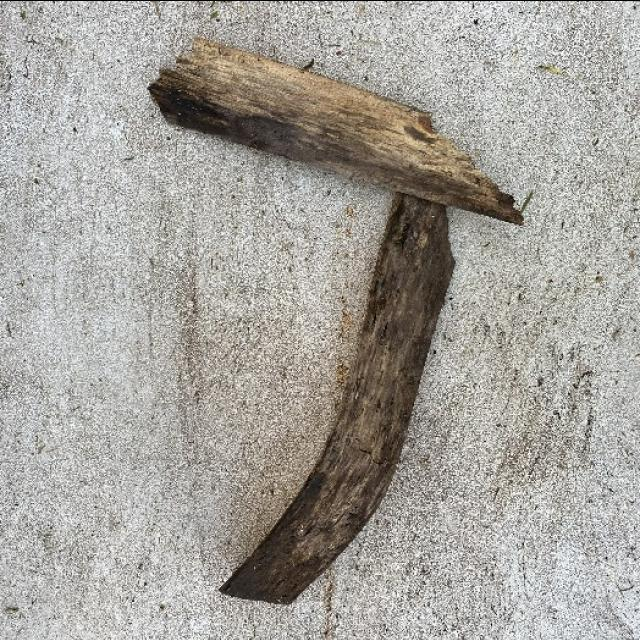organik: (228, 178, 462, 608), (152, 35, 536, 233)
